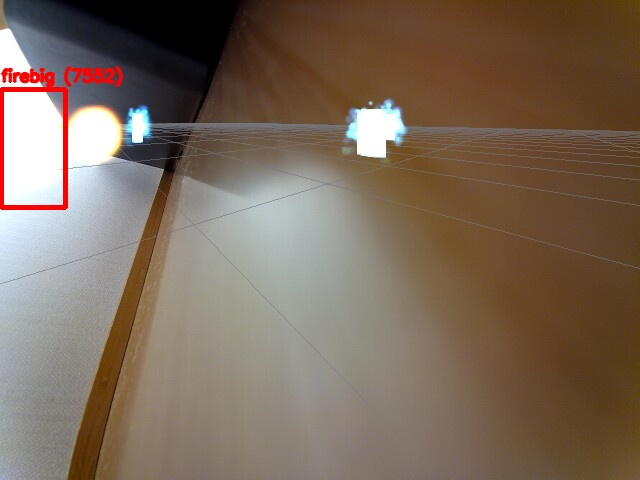firebig: (1, 89, 65, 207)
